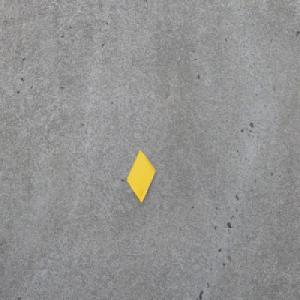PlasticPart: (126, 149, 156, 203)
